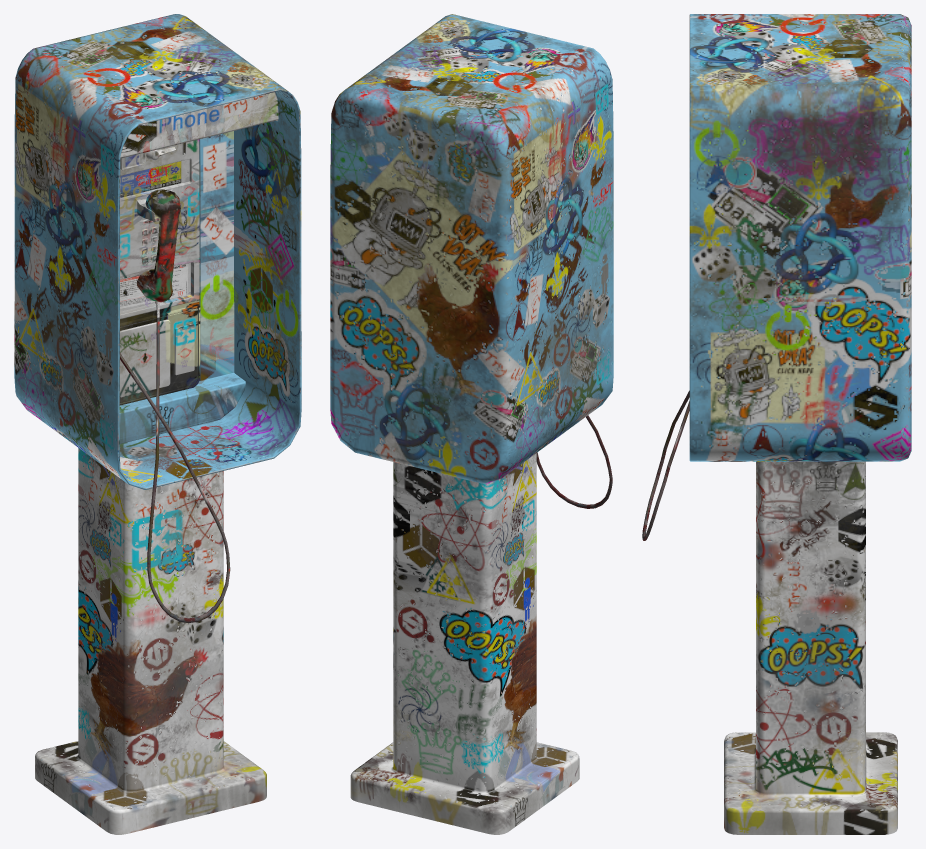
The model's file is payphone_v3.glb.
The picture shows the model from 3 angles, left to right: view 1: azimuth 30°, elevation 25°; view 2: azimuth 150°, elevation 25°; view 3: azimuth 270°, elevation 25°; orthographic projection. The views are drawn at different scales.
Visible parts, largest first — view 1: Pay_low; view 2: Pay_low; view 3: Pay_low.
Part boxes in pixels (box(x1,y1,x2,y2)): Pay_low: box(14, 14, 301, 834); Pay_low: box(330, 14, 613, 834); Pay_low: box(642, 14, 911, 834).
Bounding box in the file's own units: 45.4 × 170 × 55.81.
Materials: 1 (1 with a texture image).
